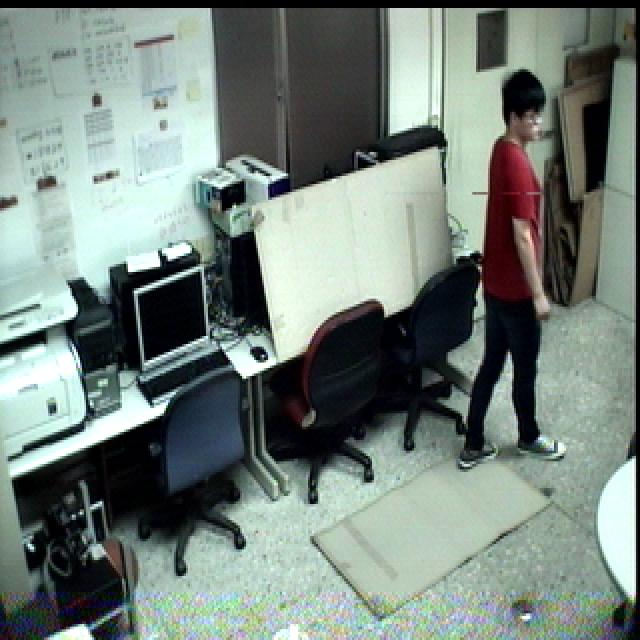stand: (456, 63, 573, 476)
